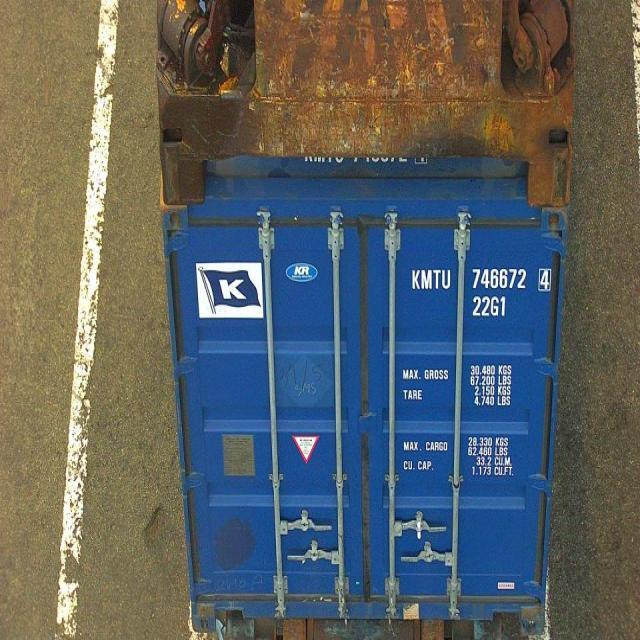ISO: (472, 296, 508, 316)
container_number: (414, 266, 550, 292)
